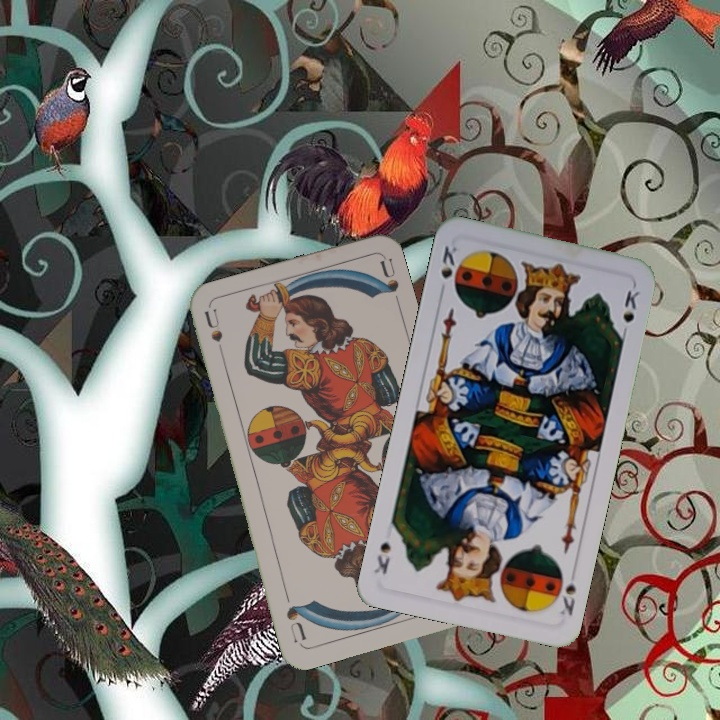SK: (550, 564, 579, 619), (436, 242, 460, 281)
SU: (200, 306, 227, 365)
